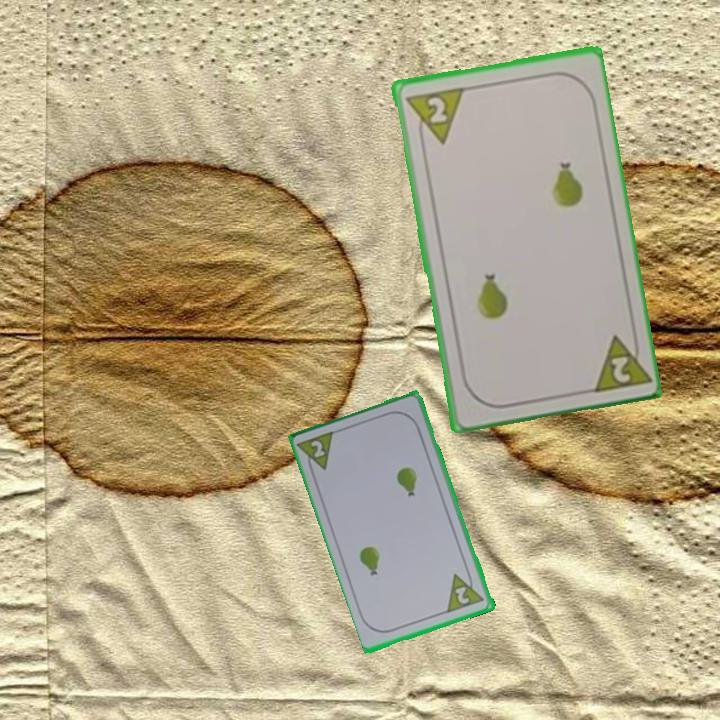2p: (586, 327, 651, 396), (401, 83, 466, 150), (295, 427, 338, 478), (452, 583, 473, 607)
